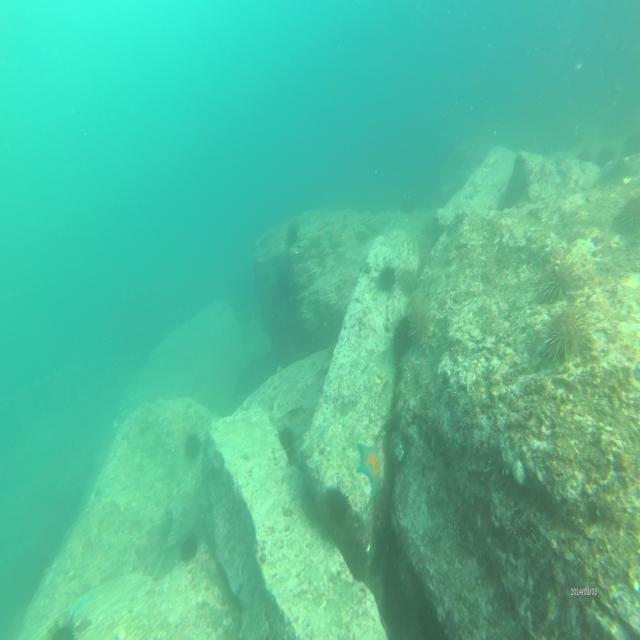echinus: (542, 306, 591, 366), (540, 253, 579, 302), (404, 302, 435, 347), (395, 263, 422, 304), (328, 487, 350, 527), (46, 618, 81, 640), (181, 425, 201, 462), (374, 256, 395, 289), (276, 423, 296, 457), (180, 530, 200, 562), (284, 226, 300, 252)
starfish: (356, 438, 385, 498), (201, 552, 223, 579), (552, 152, 572, 180)
